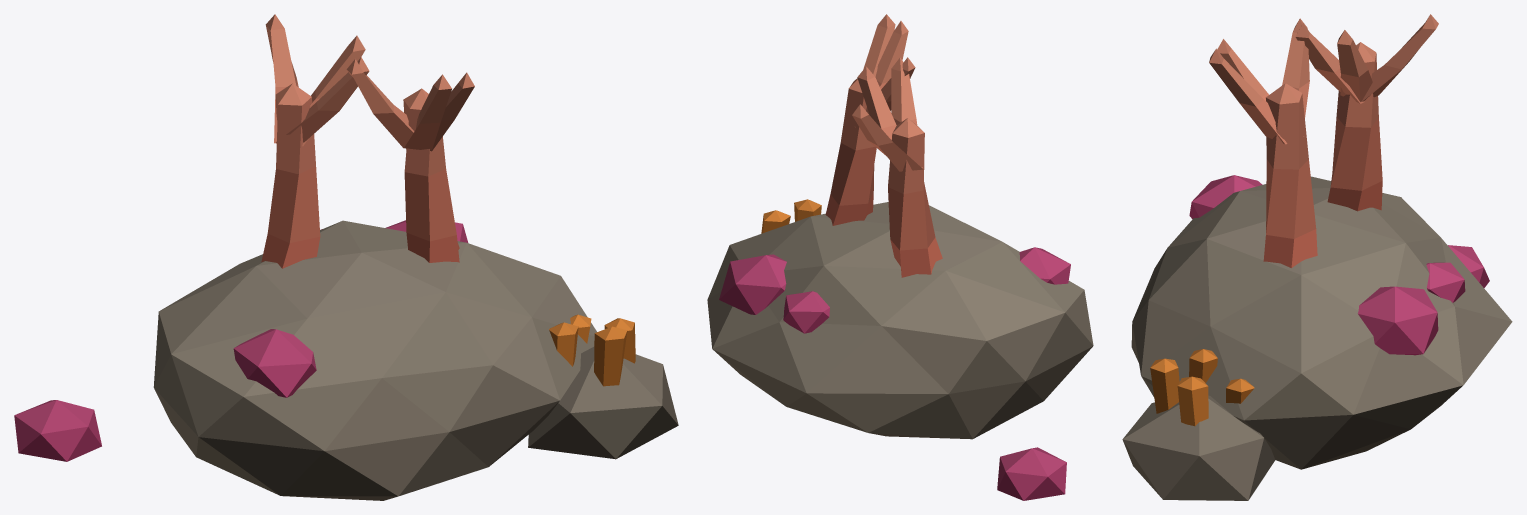
File: Coral_Rock.glb
3 views of the same model, side by side, from view 1: azimuth 30°, elevation 25°; view 2: azimuth 150°, elevation 25°; view 3: azimuth 270°, elevation 25° (orthographic). The views are drawn at different scales.
Visible parts, largest first — view 1: Coral_Rock; view 2: Coral_Rock; view 3: Coral_Rock.
Part boxes in pixels (left/top/right/bottom): Coral_Rock: left=14, top=14, right=678, bottom=500; Coral_Rock: left=707, top=14, right=1093, bottom=500; Coral_Rock: left=1122, top=14, right=1512, bottom=500.
Bounding box in the file's own units: 2.15 × 1.61 × 1.46.
